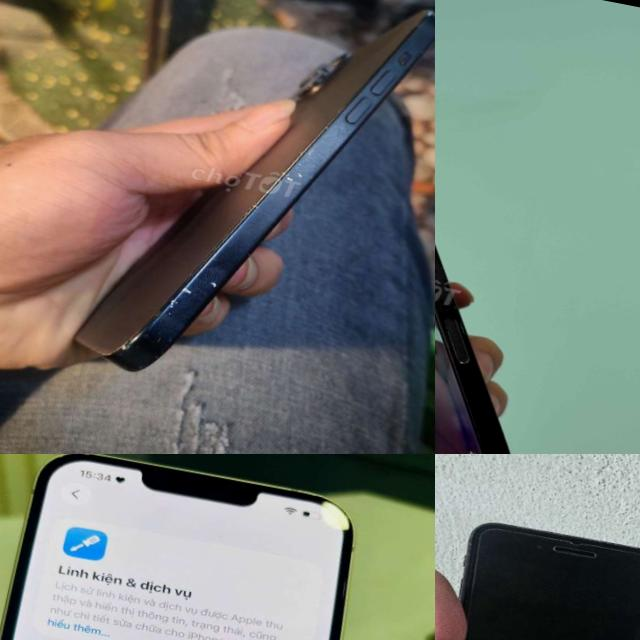scratch: (115, 262, 242, 373), (248, 130, 324, 224), (489, 517, 640, 563), (452, 520, 482, 599), (456, 353, 476, 373)
